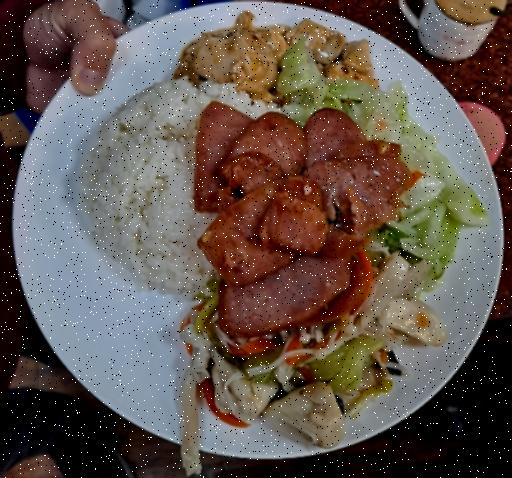plate: (7, 0, 512, 463)
sausage: (192, 96, 410, 338)
side dish: (285, 52, 484, 302), (170, 267, 432, 449), (184, 19, 378, 92)
white rice: (76, 80, 286, 296)
